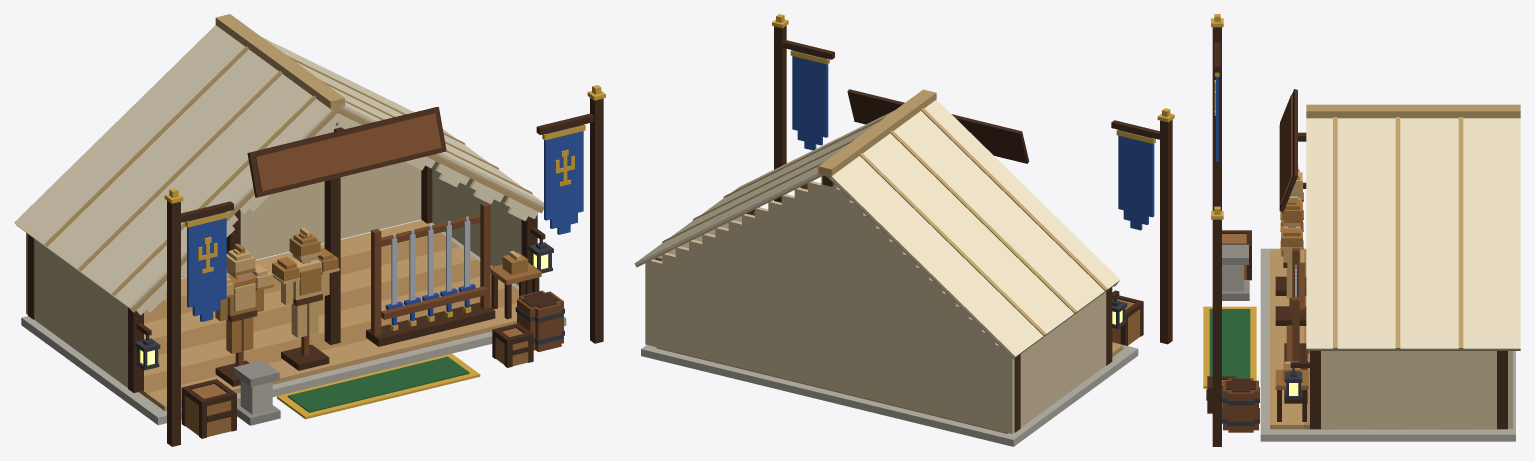
Rendered from Lobby_GearStation.glb.
The picture shows the model from 3 angles, left to right: view 1: azimuth 30°, elevation 25°; view 2: azimuth 150°, elevation 25°; view 3: azimuth 270°, elevation 25°; orthographic projection. The views are drawn at different scales.
Visible parts, largest first — view 1: TentRoof_Canvas, TentWalls_CanvasSide, Floor_PlankA, Floor_PlankB, TentRoof_CanvasTrim, Sign_Wood, Poles_WoodDark, Floor_StoneLight, WeaponRack_Wood, BannerRight_WoodDark, BannerLeft_WoodDark, Rug_RugGreen (+25 smaller); view 2: TentWalls_CanvasSide, TentRoof_Canvas, TentRoof_CanvasTrim, Floor_StoneLight, BannerLeft_WoodDark, BannerLeft_BannerBlue, BannerRight_BannerBlue, Sign_WoodDark, BannerRight_WoodDark, Poles_WoodDark, TentRoof_CanvasUnder, Floor_PlankA (+2 smaller); view 3: TentRoof_Canvas, TentWalls_CanvasSide, TentRoof_CanvasTrim, Floor_StoneLight, Floor_PlankA, BannerRight_WoodDark, Rug_RugGreen, Poles_WoodDark, BannerLeft_WoodDark, WeaponRack_Wood, Barrel_Wood, Rug_Gold (+15 smaller).
Part boxes in pixels (x1,y1,x2,y2): TentRoof_Canvas: (14, 25, 543, 314); TentWalls_CanvasSide: (26, 161, 521, 387); Floor_PlankA: (144, 220, 516, 410); Floor_PlankB: (139, 233, 518, 397); TentRoof_CanvasTrim: (44, 14, 543, 312); Sign_Wood: (255, 113, 441, 191); Poles_WoodDark: (27, 122, 537, 392); Floor_StoneLight: (21, 220, 566, 425); WeaponRack_Wood: (371, 202, 490, 335); BannerRight_WoodDark: (536, 98, 603, 343); BannerLeft_WoodDark: (167, 201, 233, 446); Rug_RugGreen: (287, 356, 469, 412); TentWalls_CanvasSide: (645, 176, 1106, 433); TentRoof_Canvas: (634, 99, 1119, 358); TentRoof_CanvasTrim: (662, 89, 1117, 335); Floor_StoneLight: (641, 342, 1138, 446); BannerLeft_WoodDark: (1111, 119, 1172, 344); BannerLeft_BannerBlue: (1118, 129, 1154, 230); BannerRight_BannerBlue: (792, 50, 828, 150); Sign_WoodDark: (847, 89, 1029, 163); BannerRight_WoodDark: (774, 25, 834, 202); Poles_WoodDark: (654, 176, 1112, 432); TentRoof_CanvasUnder: (636, 173, 1118, 359); Floor_PlankA: (656, 342, 1123, 433); TentRoof_Canvas: (1306, 118, 1520, 353); TentWalls_CanvasSide: (1321, 351, 1512, 428); TentRoof_CanvasTrim: (1306, 104, 1520, 353); Floor_StoneLight: (1260, 248, 1515, 441); Floor_PlankA: (1270, 249, 1496, 429); BannerRight_WoodDark: (1212, 206, 1221, 446); Rug_RugGreen: (1209, 309, 1250, 378); Poles_WoodDark: (1310, 351, 1507, 429); BannerLeft_WoodDark: (1212, 27, 1221, 210); WeaponRack_Wood: (1286, 247, 1305, 361); Barrel_Wood: (1223, 378, 1258, 432); Rug_Gold: (1203, 306, 1256, 388).
Size of the model in its own units: 5.96 by 3.38 by 4.04.
